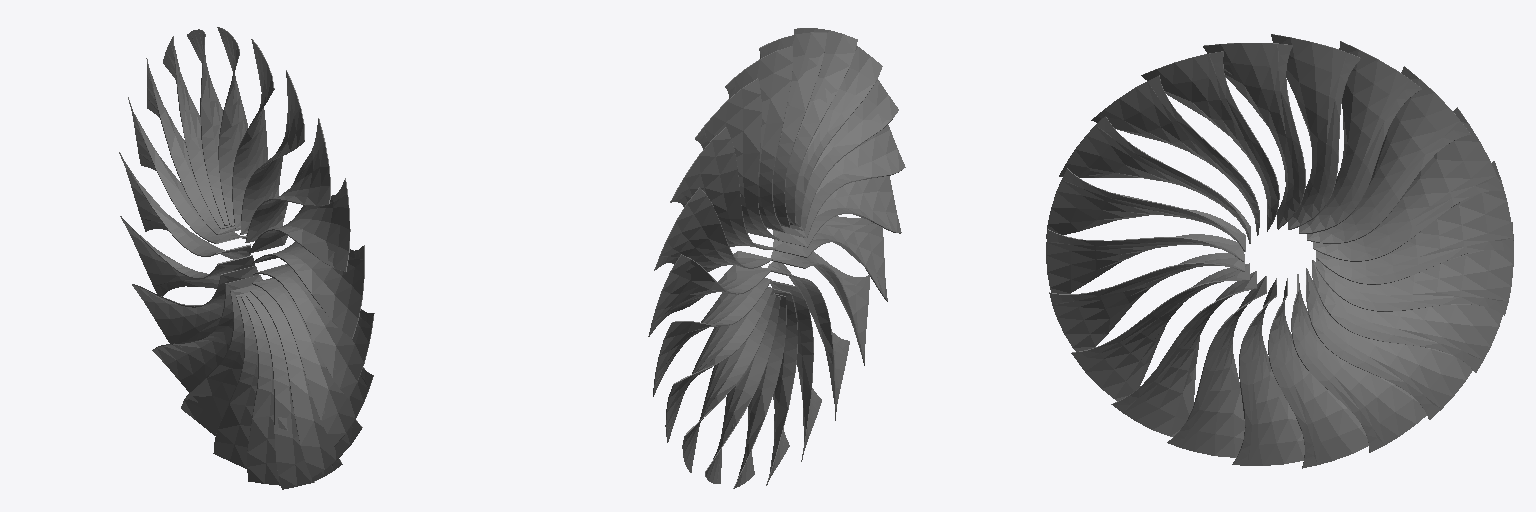
File: propeller.obj
The picture shows the model from 3 angles: view 1: azimuth 30°, elevation 25°; view 2: azimuth 150°, elevation 25°; view 3: azimuth 270°, elevation 25°; orthographic projection.
Parts seen in each view (by area): view 1: propeller; view 2: propeller; view 3: propeller.
Part boxes in pixels (x1,y1,x2,y2): propeller: (119,27,374,489); propeller: (648,28,905,488); propeller: (1046,34,1513,468).
Size of the model in its own units: 0.0003 by 0.0025 by 0.0025.